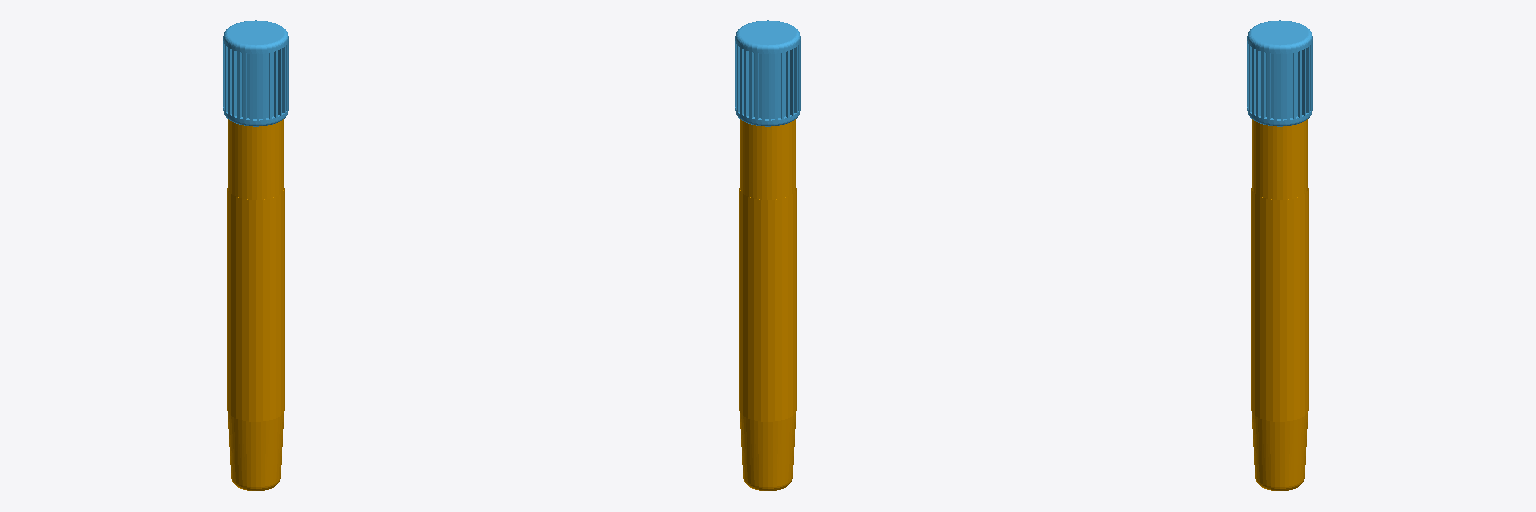
robot.urdf — polypropylene-lysis-tube:
<?xml version="1.0"?>
<robot name="polypropylene-lysis-tube">

  <link name="lysis-base">
    <visual>
      <geometry>
        <mesh filename="../../meshes/lysis-tube-1.obj" scale="0.1 0.1 0.1"/>
      </geometry>
    </visual>
    <collision>
      <geometry>
        <mesh filename="../../meshes/lysis-tube-1.obj" scale="0.1 0.1 0.1"/>
      </geometry>
    </collision>
    <inertial>
      <mass value="0.0065"/>
      <inertia ixx="0.1" iyy="0.1" izz="0.1" ixy="0" ixz="0" iyz="0"/>
    </inertial>
    <contact>
      <lateral_friction value="0.35"/>
      <rolling_friction value="0.002"/>
      <spinning_friction value="0.002"/>
      <restitution value="0.05"/>
    </contact>
  </link>

  <link name="lysis-cap">
    <visual>
      <geometry>
        <mesh filename="../../meshes/lysis-cap-1.obj" scale="0.1 0.1 0.1"/>
      </geometry>
    </visual>
    <collision>
      <geometry>
        <mesh filename="../../meshes/lysis-cap-1.obj" scale="0.1 0.1 0.1"/>
      </geometry>
    </collision>
    <inertial>
      <mass value="0.0015"/>
      <inertia ixx="0.01" iyy="0.01" izz="0.01" ixy="0" ixz="0" iyz="0"/>
    </inertial>
    <contact>
      <lateral_friction value="0.30"/>
      <rolling_friction value="0.002"/>
      <spinning_friction value="0.002"/>
      <restitution value="0.05"/>
    </contact>
  </link>
  <joint name="base_to_cap" type="revolute">
    <parent link="lysis-base"/>
    <child link="lysis-cap"/>
    <origin xyz="0 0 0.5" rpy="0 0 0"/>
    <axis xyz="0 0 1"/>
    <limit lower="-31.4" upper="31.4" effort="10" velocity="5"/>
    <dynamics damping="0.1" friction="0.05"/>
  </joint>

</robot>

--- What the picture shows (computed from the rendered views, not written in the file) ---
The picture shows the robot from 3 angles, left to right: view 1: azimuth 30°, elevation 25°; view 2: azimuth 150°, elevation 25°; view 3: azimuth 270°, elevation 25°; orthographic projection.
Robot: polypropylene-lysis-tube — 2 links, 1 joints (1 revolute); root link lysis-base; default pose: every joint at zero.
Visible links, largest first — view 1: lysis-base, lysis-cap; view 2: lysis-base, lysis-cap; view 3: lysis-base, lysis-cap.
Boxes of the visible links, left/top/right/bottom form: lysis-base: left=227, top=119, right=284, bottom=490; lysis-cap: left=223, top=20, right=288, bottom=126; lysis-base: left=739, top=119, right=796, bottom=490; lysis-cap: left=735, top=20, right=800, bottom=126; lysis-base: left=1251, top=119, right=1308, bottom=490; lysis-cap: left=1247, top=20, right=1312, bottom=126.
Size in the robot's own frame: 0.16 by 0.16 by 1.22 metres.
2 mesh visuals loaded from 2 distinct referenced files (2 OBJ).
